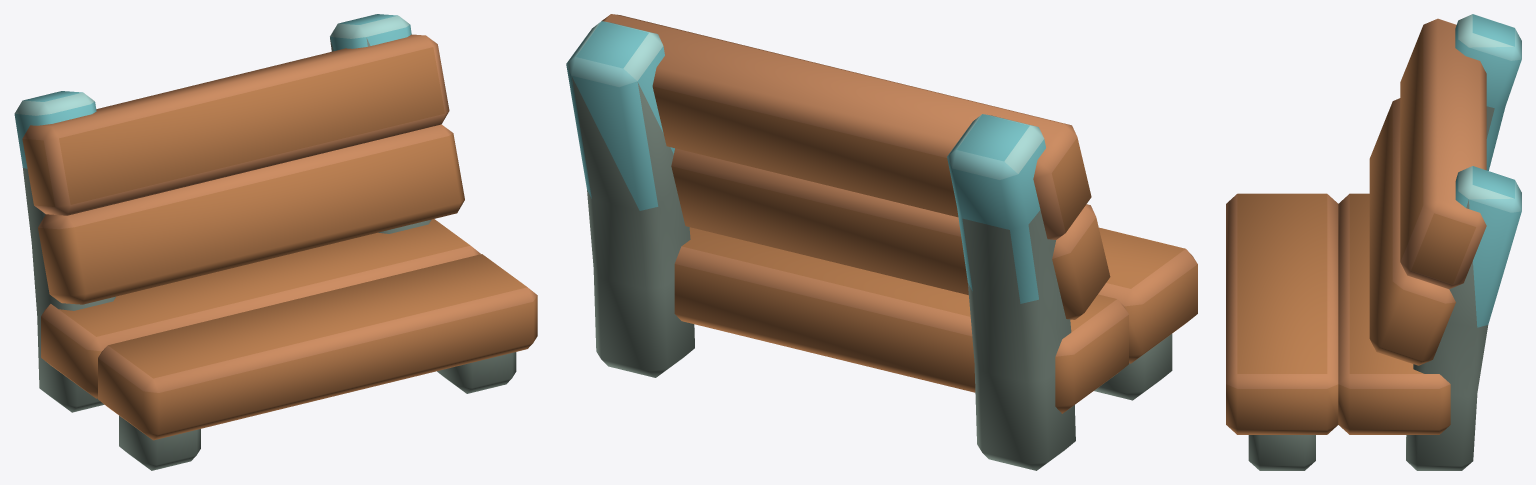
File: itch_tiny_pretty_park_bench.glb
3 renders of one model, left to right at view 1: azimuth 30°, elevation 25°; view 2: azimuth 150°, elevation 25°; view 3: azimuth 270°, elevation 25°, orthographic. The views are drawn at different scales.
Visible parts, largest first — view 1: bench; view 2: bench; view 3: bench.
Boxes of the visible parts, box(x1,y1,x2,y2) form: bench: box(14, 14, 537, 470); bench: box(566, 14, 1197, 470); bench: box(1226, 14, 1521, 470).
Bounding box in the file's own units: 0.96 × 0.6749 × 0.632.
